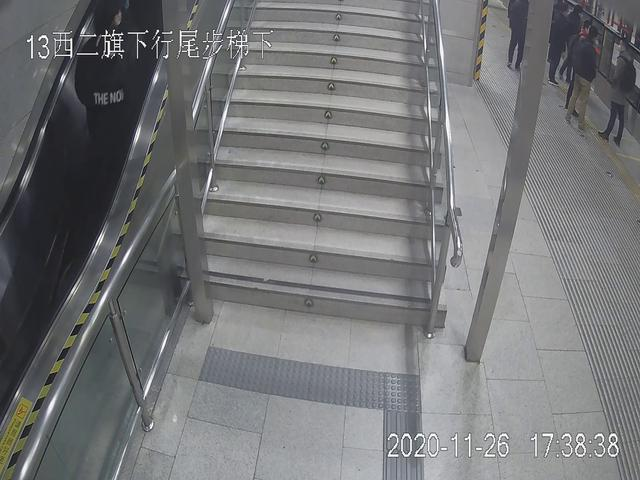person: (75, 6, 136, 167), (567, 19, 609, 131), (606, 27, 640, 144)
